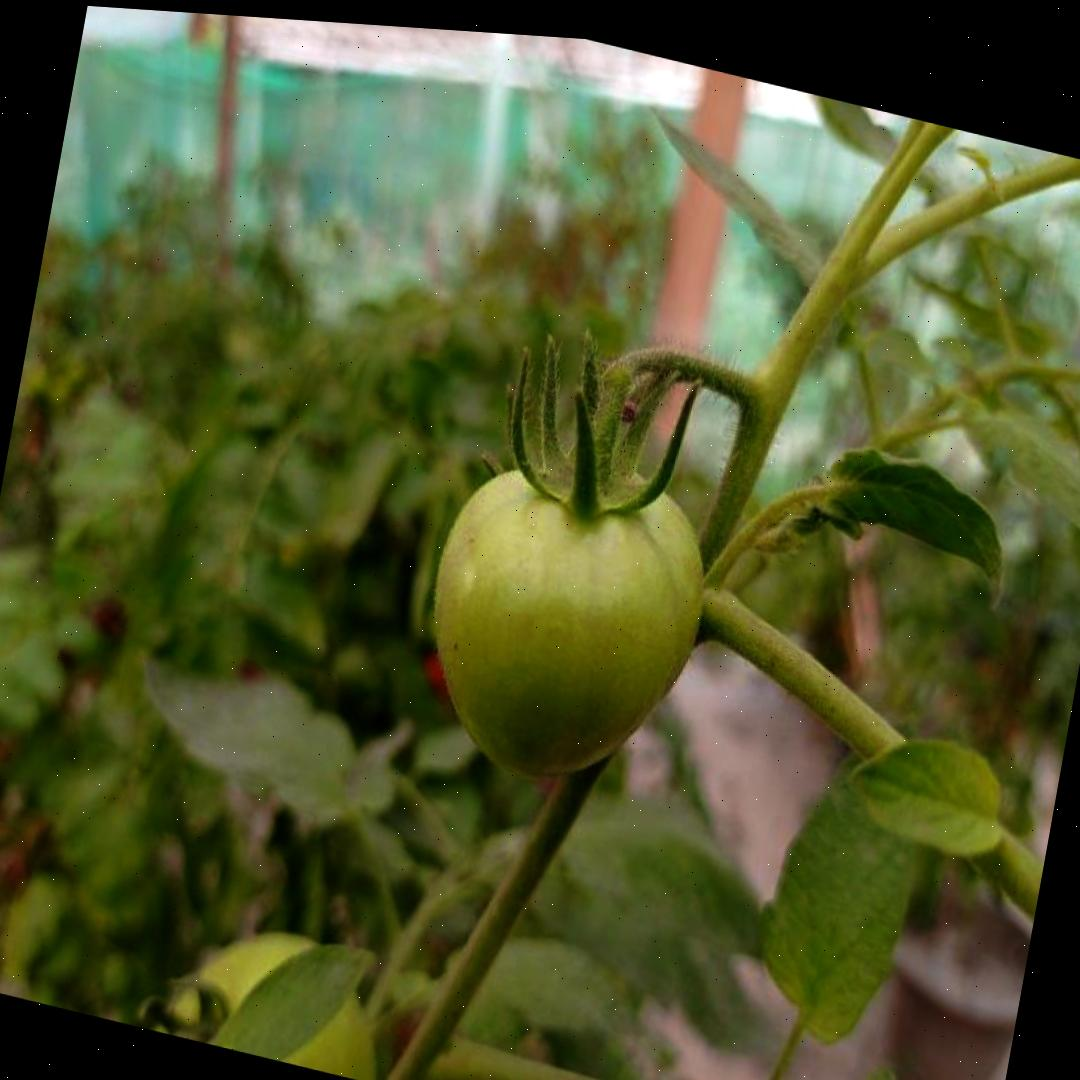mentah: (402, 419, 724, 818)
